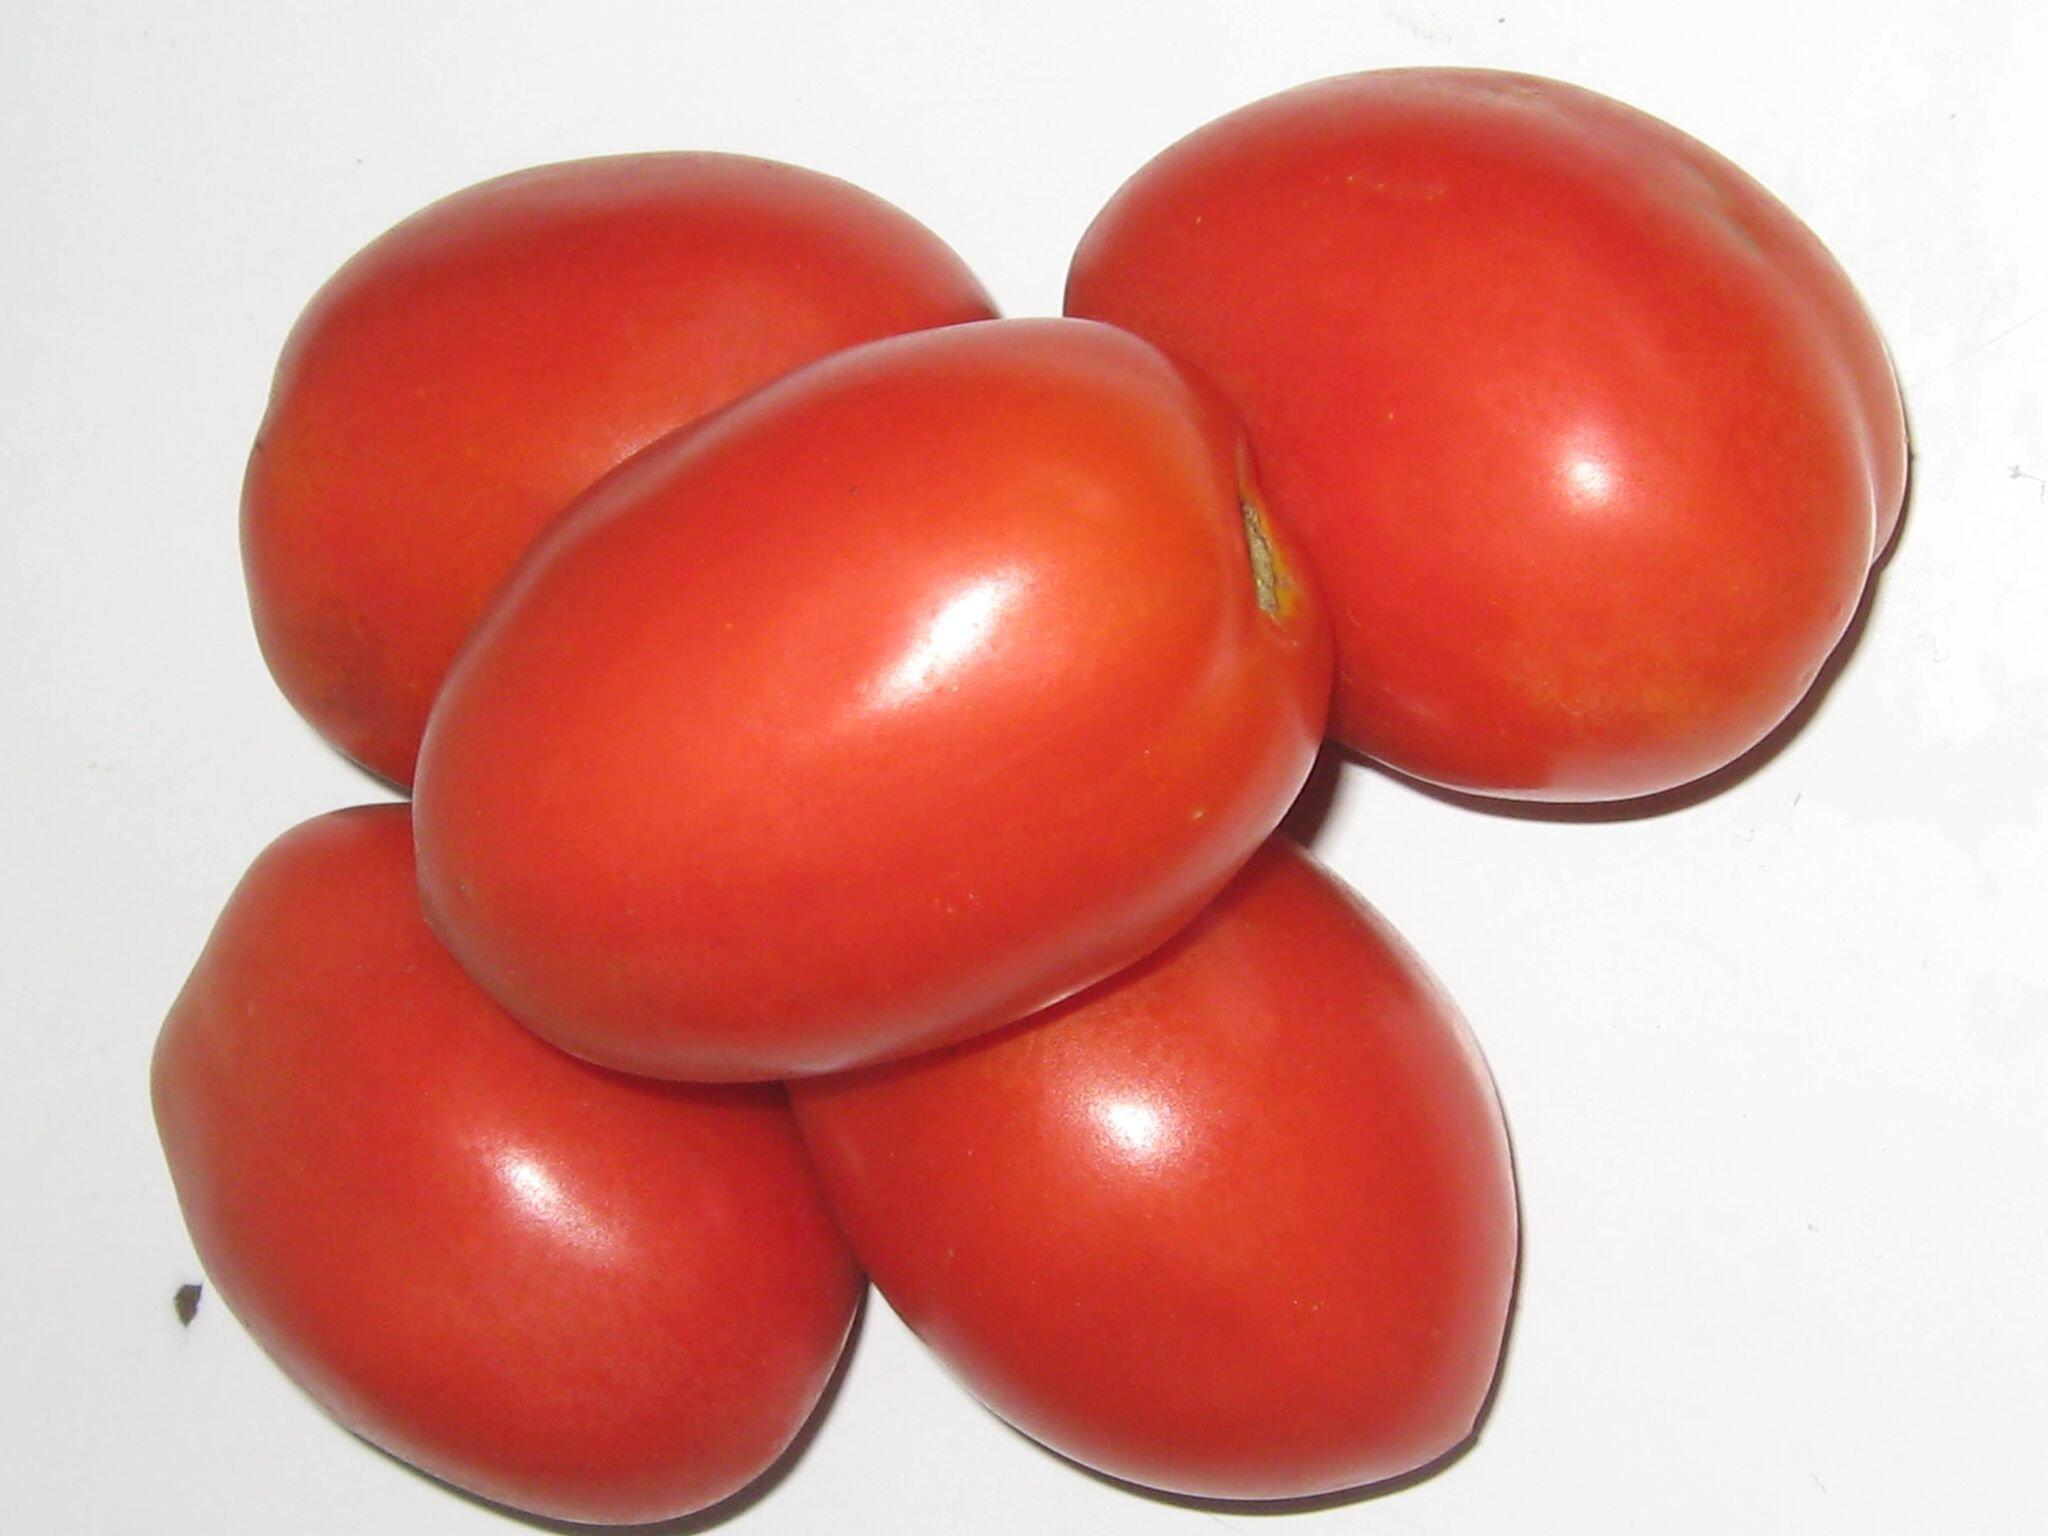healthy-tomato: (406, 319, 1338, 1092), (1056, 74, 1919, 829), (148, 805, 872, 1536), (777, 847, 1534, 1521), (242, 153, 1009, 797)
